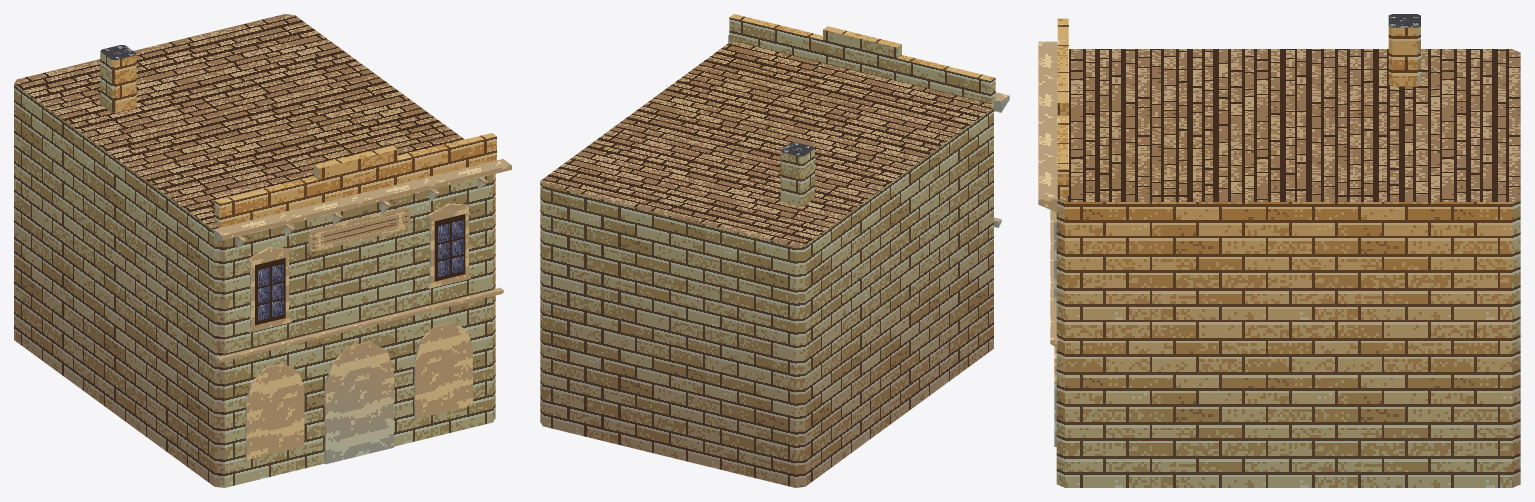
The model's file is wtown.bank.glb.
3 views of the same model, side by side, from view 1: azimuth 30°, elevation 25°; view 2: azimuth 150°, elevation 25°; view 3: azimuth 270°, elevation 25° (orthographic). The views are drawn at different scales.
Parts seen in each view (by area): view 1: kit_body, kit_trim, kit_windows, kit_card_panes, kit_chimney; view 2: kit_body, kit_trim, kit_chimney; view 3: kit_body, kit_trim, kit_chimney, kit_windows.
Part boxes in pixels (<box>): kit_body: <box>14,14,495,487</box>; kit_trim: <box>213,133,511,464</box>; kit_windows: <box>245,203,472,459</box>; kit_card_panes: <box>255,210,465,325</box>; kit_chimney: <box>100,45,136,112</box>; kit_body: <box>540,41,993,487</box>; kit_trim: <box>728,14,1009,227</box>; kit_chimney: <box>780,142,814,206</box>; kit_body: <box>1056,49,1520,487</box>; kit_trim: <box>1038,18,1068,347</box>; kit_chimney: <box>1388,14,1420,86</box>; kit_windows: <box>1054,212,1056,446</box>.
Size of the model in its own units: 8.04 by 8.2 by 10.4.
7 materials, 7 textured.
